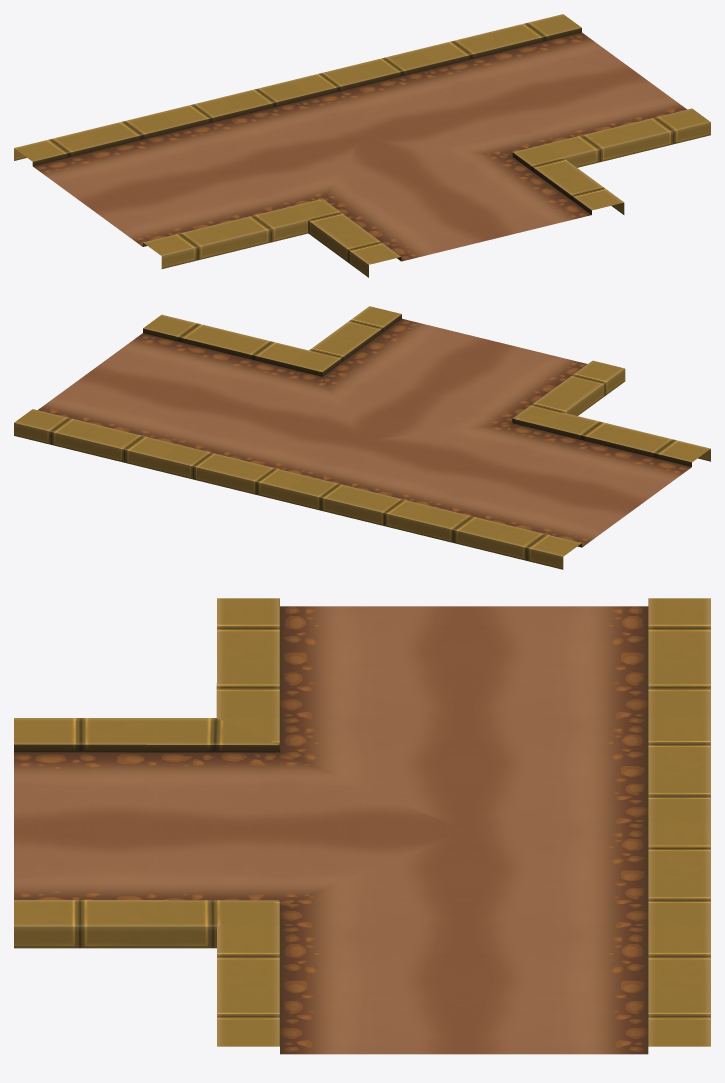
File: RoadPiece_05.FBX
3 renders of one model, top to bottom at view 1: azimuth 30°, elevation 25°; view 2: azimuth 150°, elevation 25°; view 3: azimuth 270°, elevation 25°, orthographic. The views are drawn at different scales.
Parts seen in each view (by area): view 1: RoadPiece_05; view 2: RoadPiece_05; view 3: RoadPiece_05.
Boxes of the visible parts, <box> form: RoadPiece_05: <box>14,14,710,277</box>; RoadPiece_05: <box>14,306,710,569</box>; RoadPiece_05: <box>14,598,710,1054</box>.
Size of the model in its own units: 3.51 by 0.0796 by 2.31.
